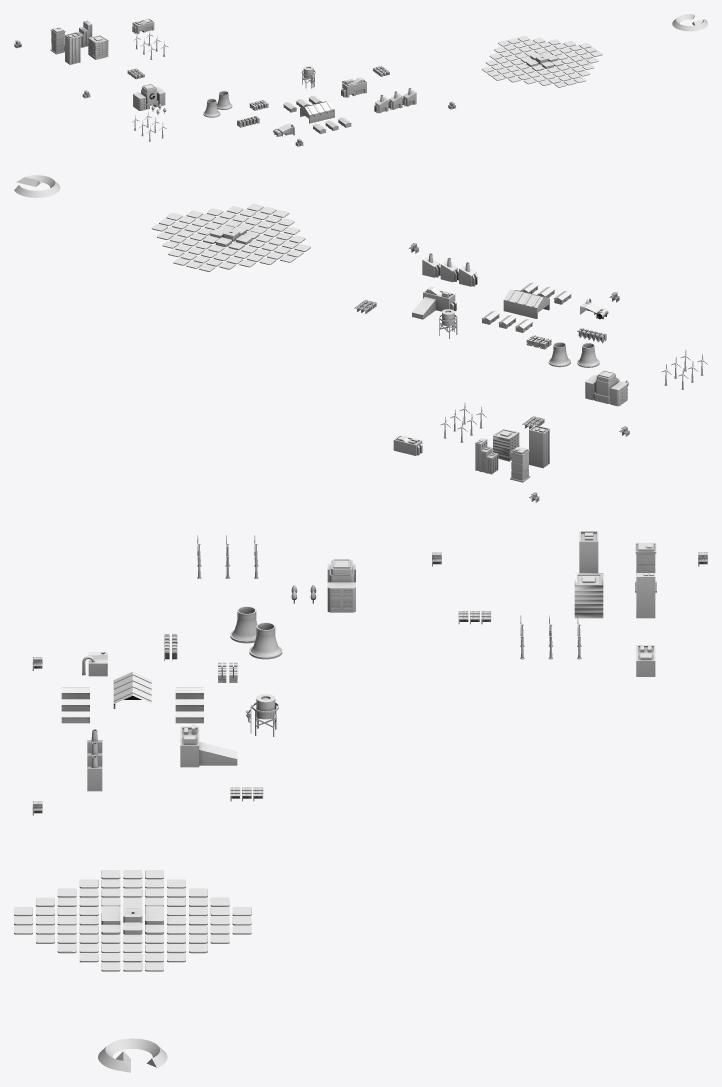
Rendered from nuclear_staffing_noHumans_mobile.glb.
The picture shows the model from 3 angles, top to bottom: view 1: azimuth 30°, elevation 25°; view 2: azimuth 150°, elevation 25°; view 3: azimuth 270°, elevation 25°; orthographic projection. The views are drawn at different scales.
Parts seen in each view (by area): view 1: scene, blocks, logo_G; view 2: scene, blocks, logo_G; view 3: scene, blocks, logo_G.
Part boxes in pixels (box(x1,y1,x2,y2)): scene: box(14, 18, 455, 146); blocks: box(481, 36, 602, 87); logo_G: box(672, 14, 707, 31); scene: box(354, 243, 703, 502); blocks: box(151, 203, 310, 271); logo_G: box(14, 175, 60, 197); scene: box(32, 531, 707, 815); blocks: box(14, 870, 251, 971); logo_G: box(98, 1038, 167, 1072).
Size of what is drawn, in the model's own units: 128 by 6 by 73.03.
Materials: 2 (1 with a texture image).
